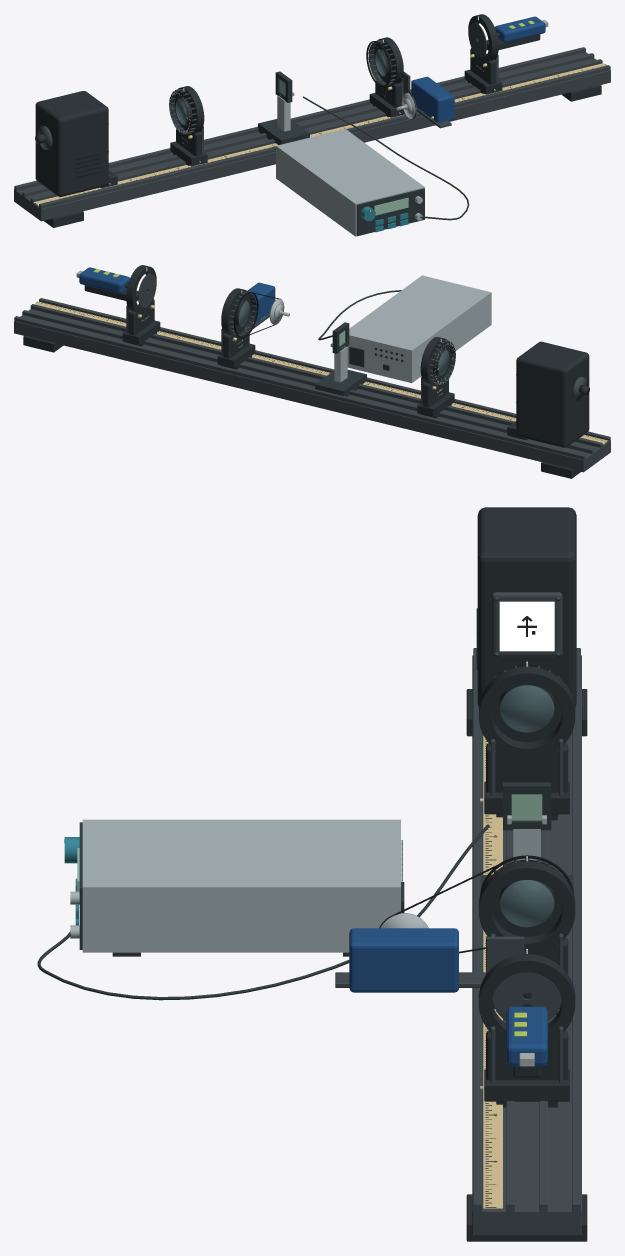
File: liquid-crystal.glb
3 views of the same model, one above another, from view 1: azimuth 30°, elevation 25°; view 2: azimuth 150°, elevation 25°; view 3: azimuth 270°, elevation 25° (orthographic). The views are drawn at different scales.
Parts seen in each view (by area): view 1: Extruded rail, DriverHousing, Lamp housing, Channel lip, Channel lip.002, Channel lip.003, Channel lip.001, Ruler strip, DriverFront, PS2120A_Housing, PS2176_Housing, CellFoot (+18 smaller); view 2: Extruded rail, DriverHousing, Lamp housing, Channel lip.003, Channel lip.002, Channel lip.001, Channel lip, Ruler strip, PS2176_Housing, CellFoot, PS2120A_Housing, PolarizerRotor_Dial (+15 smaller); view 3: DriverHousing, Extruded rail, Lamp housing, PS2120A_Housing, Channel lip, Channel lip.003, PolarizerCarrier_FixedRing, AnalyzerCarrier_FixedRing, Ruler strip, DetectorCarrier_FixedRing, Target luminous face, PolarizerCarrier_Stem (+14 smaller).
Part boxes in pixels (x1,y1,x2,y2): Extruded rail: (14, 52, 610, 221); DriverHousing: (276, 129, 424, 236); Lamp housing: (35, 91, 108, 196); Channel lip: (39, 65, 610, 209); Channel lip.002: (22, 53, 594, 197); Channel lip.003: (14, 47, 585, 190); Channel lip.001: (30, 59, 602, 203); Ruler strip: (33, 63, 606, 206); DriverFront: (356, 188, 424, 235); PS2120A_Housing: (411, 76, 454, 122); PS2176_Housing: (495, 16, 545, 42); CellFoot: (258, 119, 309, 144); Extruded rail: (14, 309, 610, 472); DriverHousing: (347, 275, 491, 382); Lamp housing: (516, 341, 589, 447); Channel lip.003: (14, 316, 585, 460); Channel lip.002: (22, 310, 594, 453); Channel lip.001: (30, 304, 602, 447); Channel lip: (39, 298, 610, 441); Ruler strip: (35, 301, 607, 444); PS2176_Housing: (79, 267, 129, 293); CellFoot: (315, 369, 366, 396); PS2120A_Housing: (247, 282, 275, 325); PolarizerRotor_Dial: (428, 341, 455, 384); DriverHousing: (82, 819, 400, 952); Extruded rail: (472, 655, 581, 1235); Lamp housing: (477, 507, 576, 706); PS2120A_Housing: (349, 928, 458, 992); Channel lip: (473, 648, 482, 1212); Channel lip.003: (572, 648, 580, 1212); PolarizerCarrier_FixedRing: (479, 666, 575, 759); AnalyzerCarrier_FixedRing: (479, 861, 575, 954); Ruler strip: (483, 735, 502, 1208); DetectorCarrier_FixedRing: (479, 954, 575, 1042); Target luminous face: (499, 601, 554, 651); PolarizerCarrier_Stem: (486, 743, 568, 792).
Size of the model in its own units: 1.2 by 0.211 by 0.5014.
